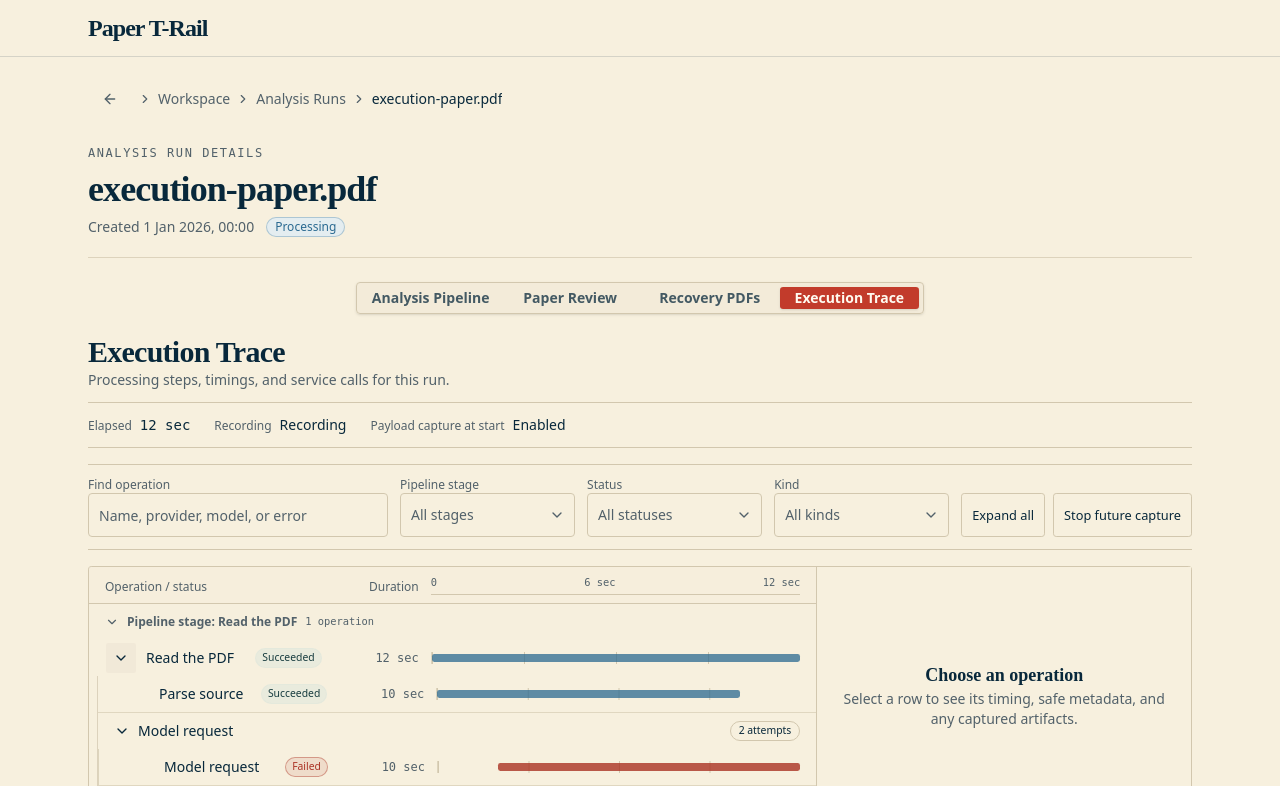
Analysis Run Execution view › filters the trace by a canonical pipeline stage and omits unrelated operations
Select "Resolve references" in the dropdown labelled "Pipeline stage": (488, 515) top-left (400, 493), bottom-right (575, 537)
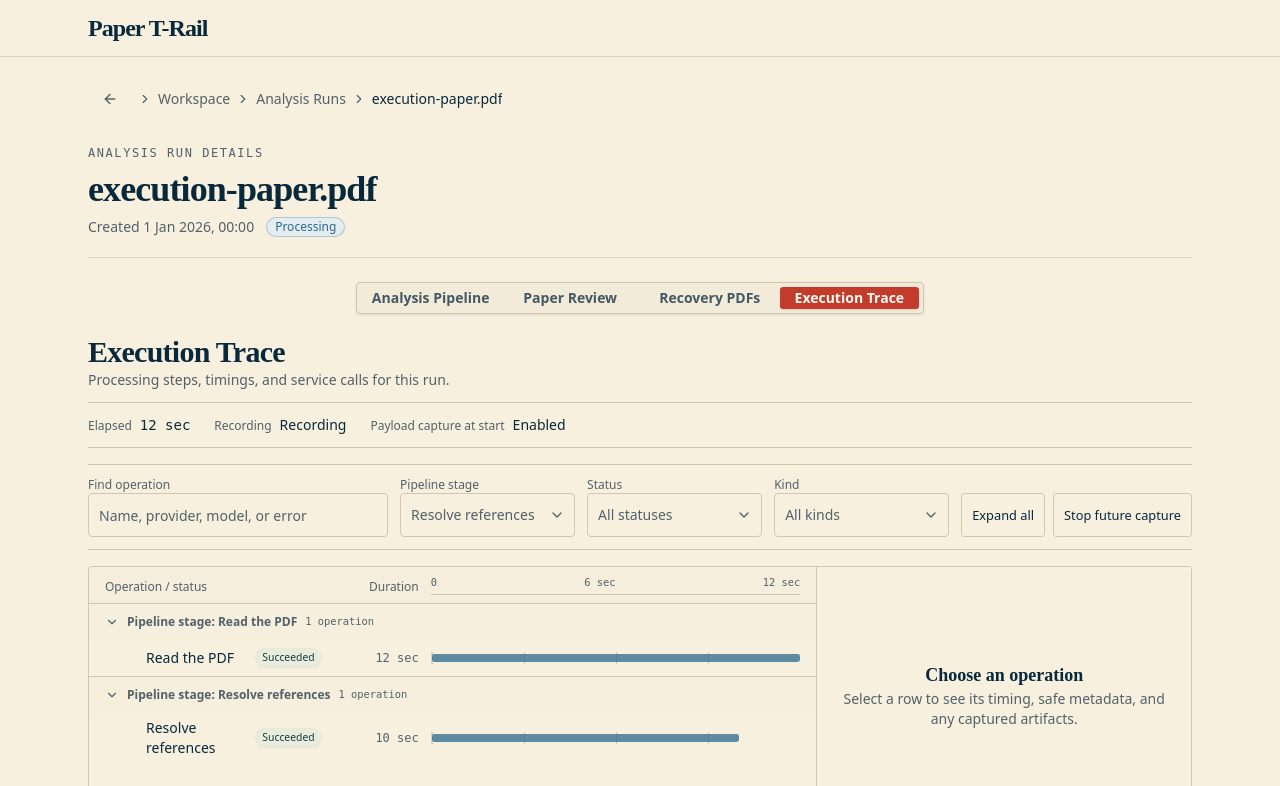
Expected: the text "Resolve references" is shown, top-left (146, 718), bottom-right (216, 757)
Expected: the button "Parse source" is gone
